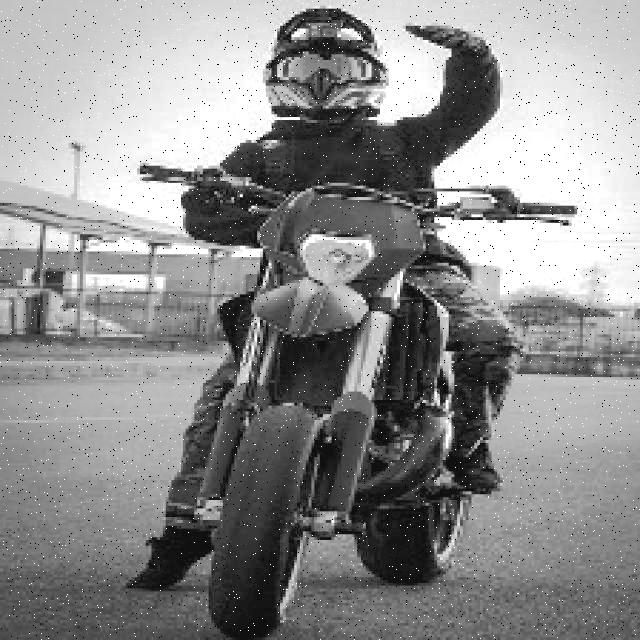Bike: (230, 177, 490, 621)
